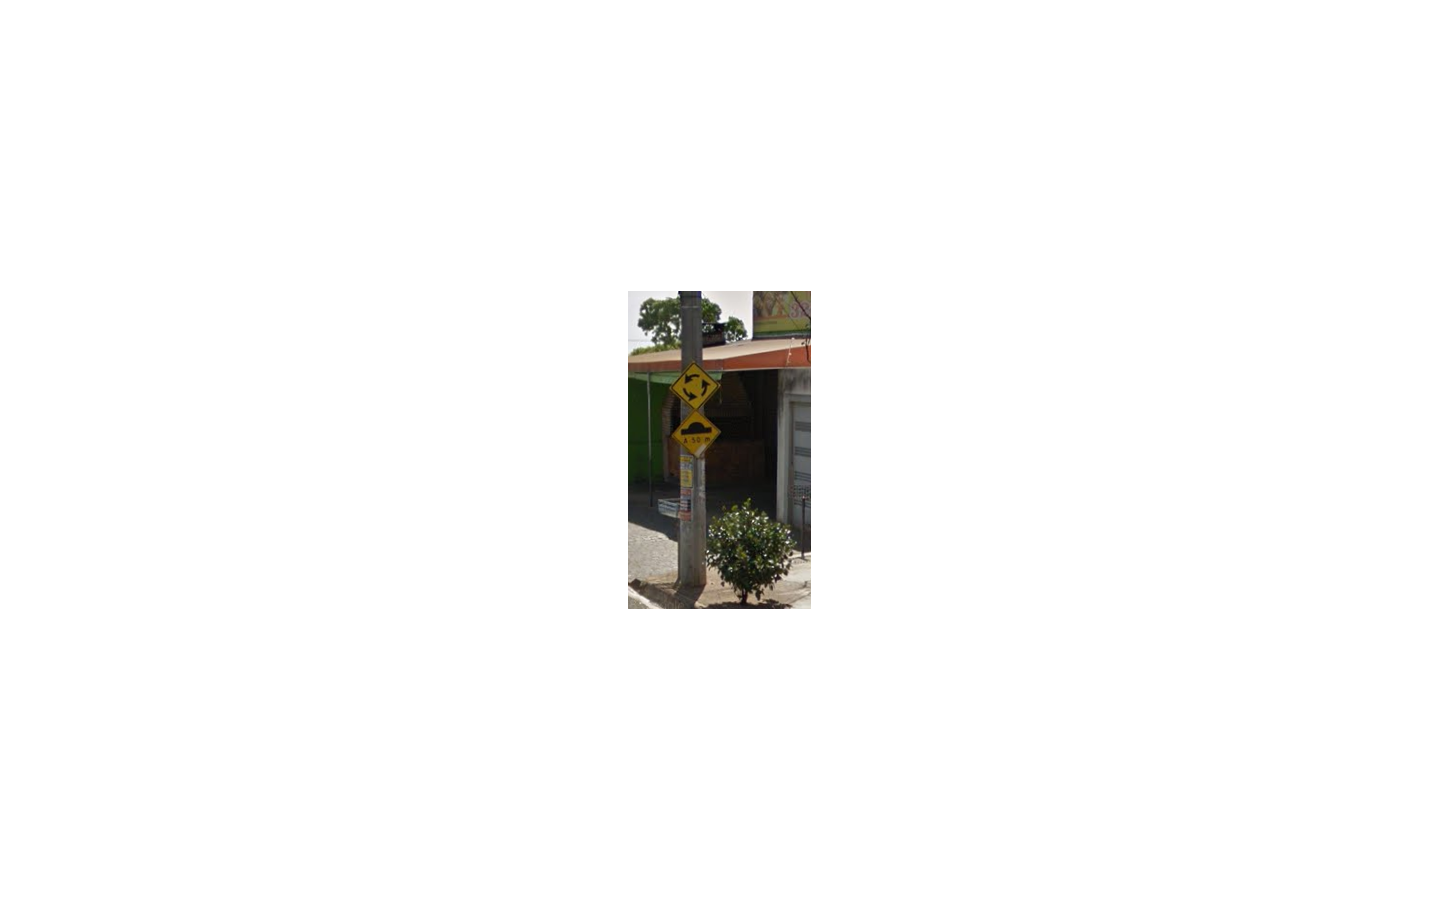l50m: (670, 409, 721, 459)
